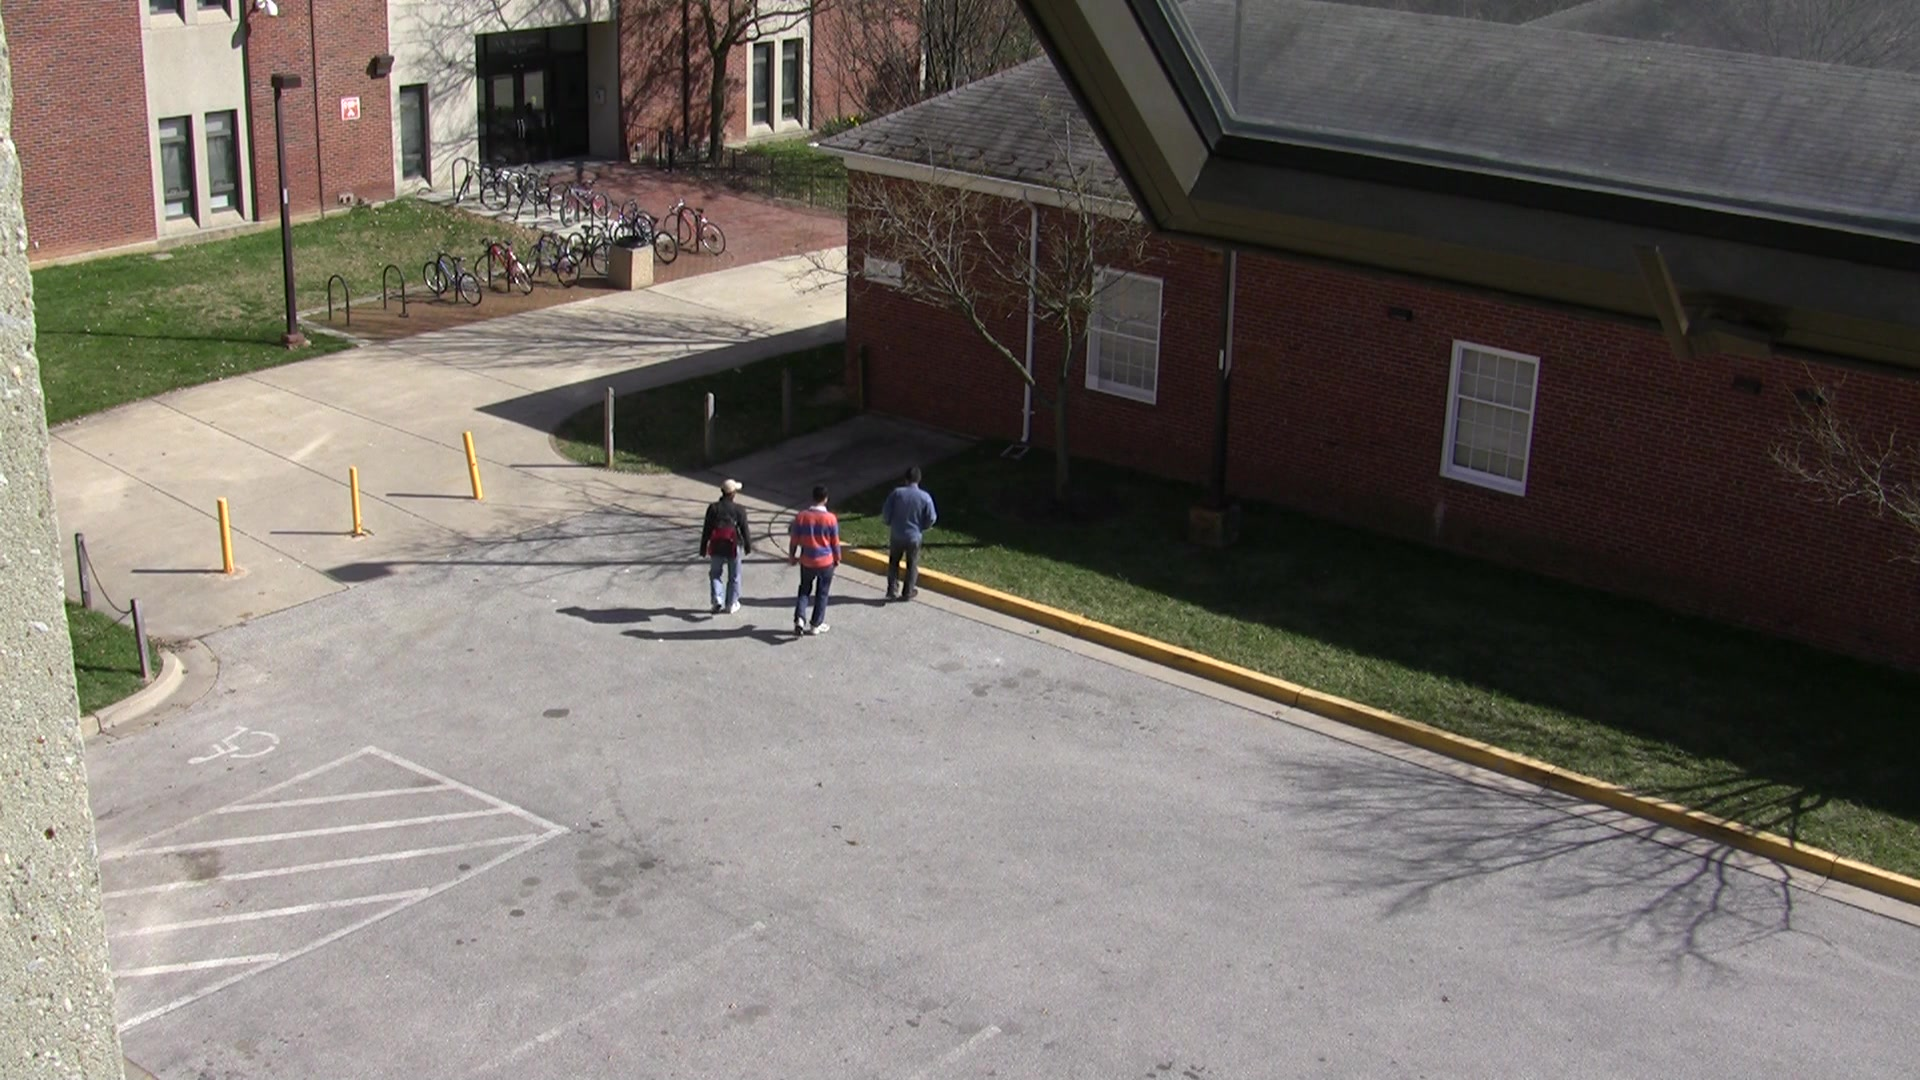person: (690, 468, 758, 628), (785, 486, 838, 649), (881, 463, 933, 609)
